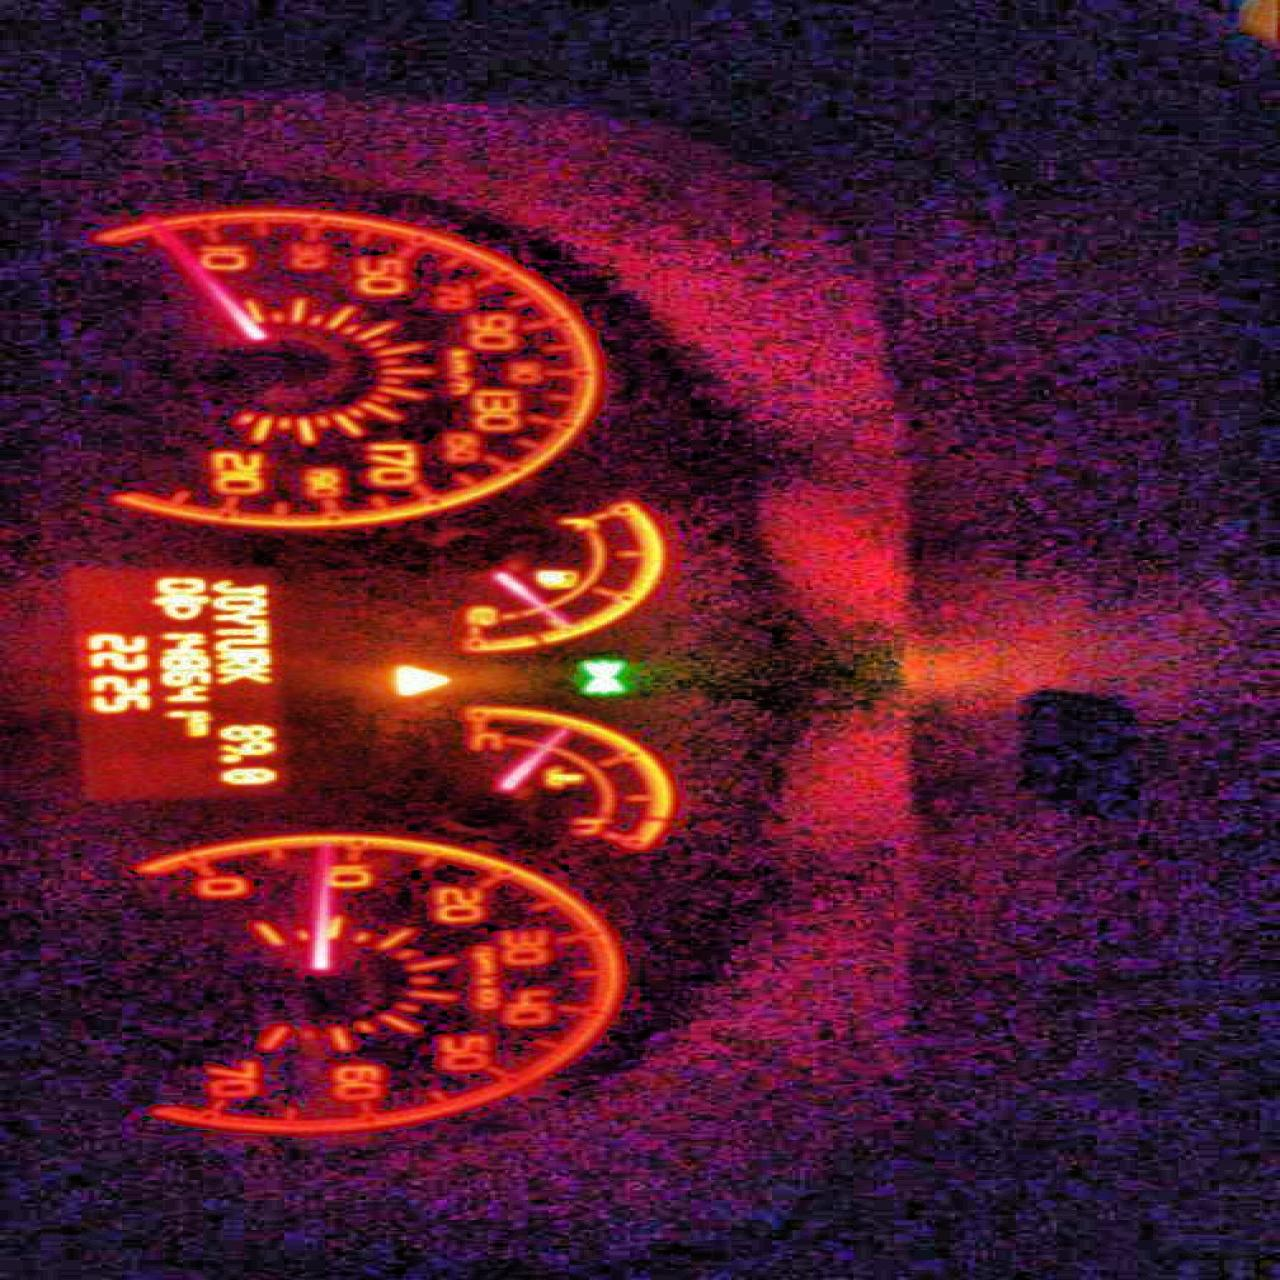-: (216, 753, 241, 763)
0: (216, 765, 277, 785), (152, 576, 204, 594)
1: (159, 708, 209, 717), (158, 632, 203, 639)
2: (83, 631, 148, 651), (87, 651, 148, 670), (87, 674, 148, 693)
4: (157, 639, 206, 655), (163, 686, 209, 703)
5: (87, 693, 150, 713)
6: (157, 669, 209, 685)
8: (216, 722, 274, 740), (216, 738, 274, 755), (157, 654, 209, 668)
X: (150, 594, 209, 620), (213, 666, 272, 685), (209, 579, 267, 595), (207, 610, 268, 625), (211, 638, 270, 653), (211, 653, 270, 667), (211, 624, 270, 638), (209, 595, 267, 610)
odometer: (59, 560, 294, 802)
